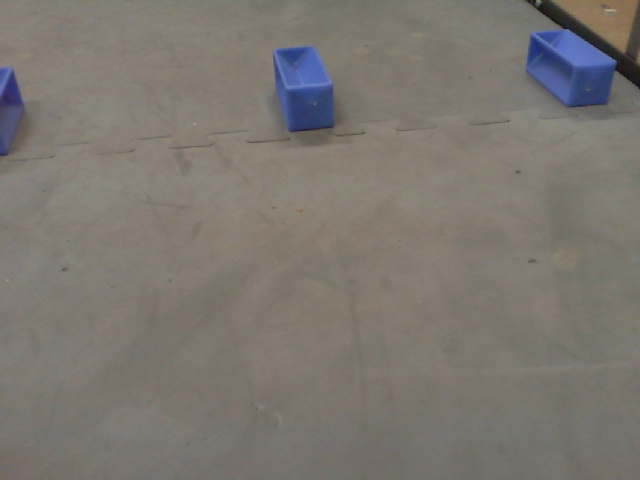BlueSample: (524, 23, 617, 111), (270, 41, 338, 137), (1, 65, 29, 157)
